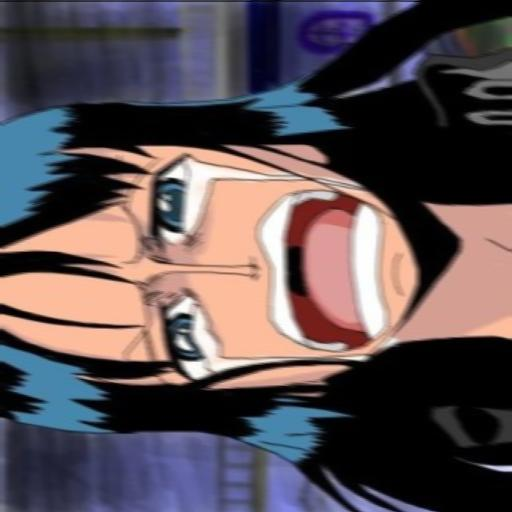NicoRobin: (0, 61, 437, 444)
